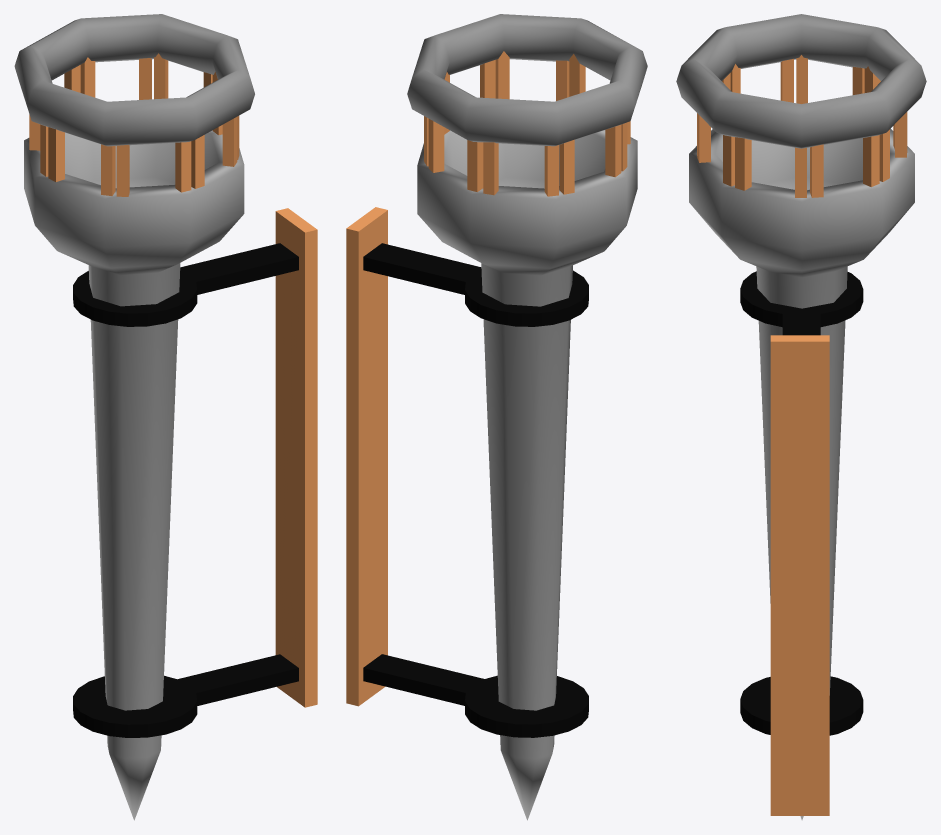
The model's file is Torch.fbx.
The picture shows the model from 3 angles, left to right: view 1: azimuth 30°, elevation 25°; view 2: azimuth 150°, elevation 25°; view 3: azimuth 270°, elevation 25°; orthographic projection.
Visible parts, largest first — view 1: pCylinder4; view 2: pCylinder4; view 3: pCylinder4.
Boxes of the visible parts, x1=… form: pCylinder4: x1=14, y1=14, x2=317, y2=820; pCylinder4: x1=346, y1=14, x2=647, y2=820; pCylinder4: x1=676, y1=14, x2=926, y2=820.
Bounding box in the file's own units: 5.39 × 14.3 × 4.26.
